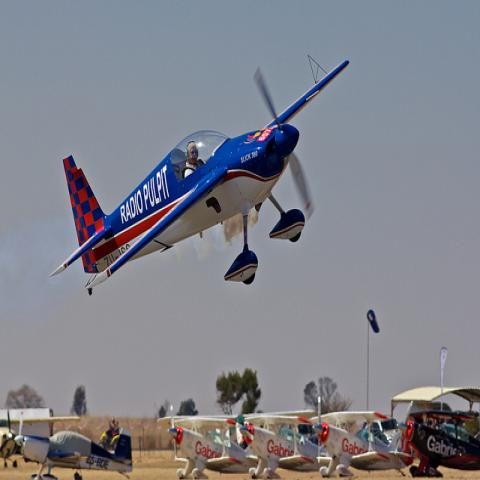motorcycle: (98, 431, 120, 451)
